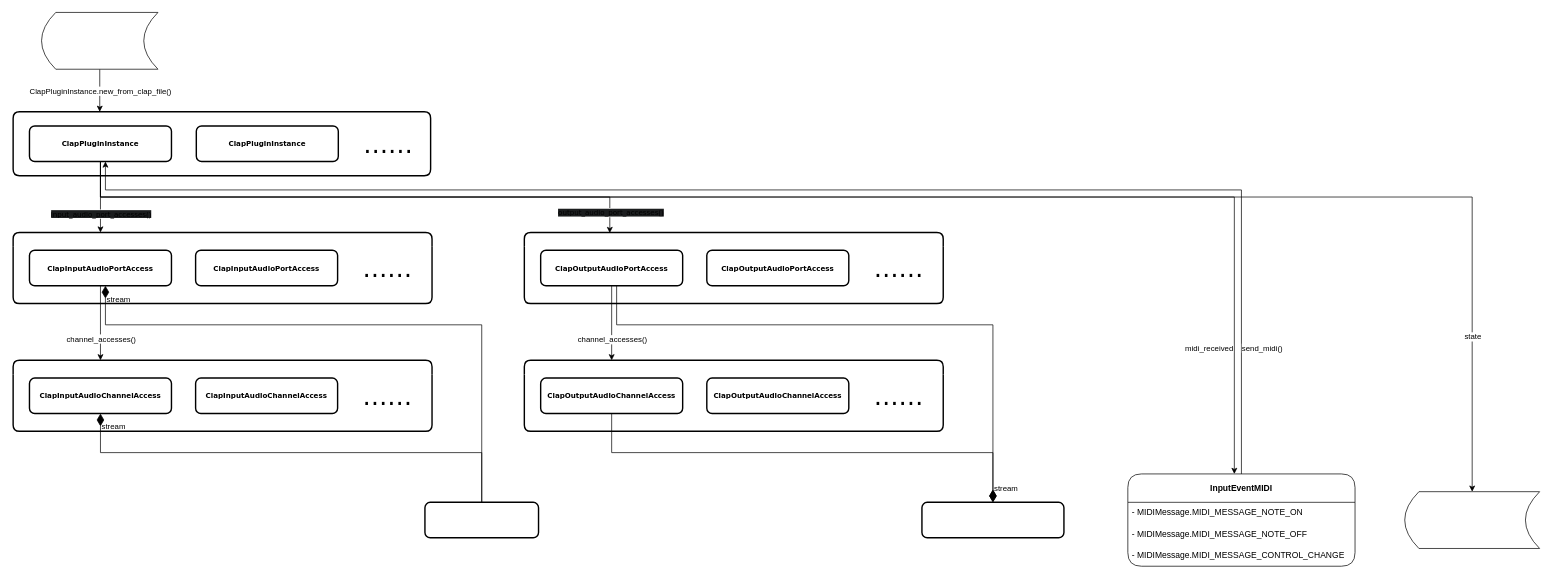
Image size: 1552x579. Some labels were removed from this diagram. Each missing label, with the centre of its shape:
"AudioStream" goes at pixel 481 519.
"AudioStreamPlayer" goes at pixel 992 519.
"file://**.clap" goes at pixel 99 40.
"file://**/clap_state.byte" goes at pixel 1472 519.
